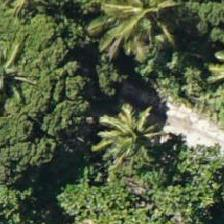coconut_tree: (81, 92, 171, 182), (107, 0, 197, 60)
